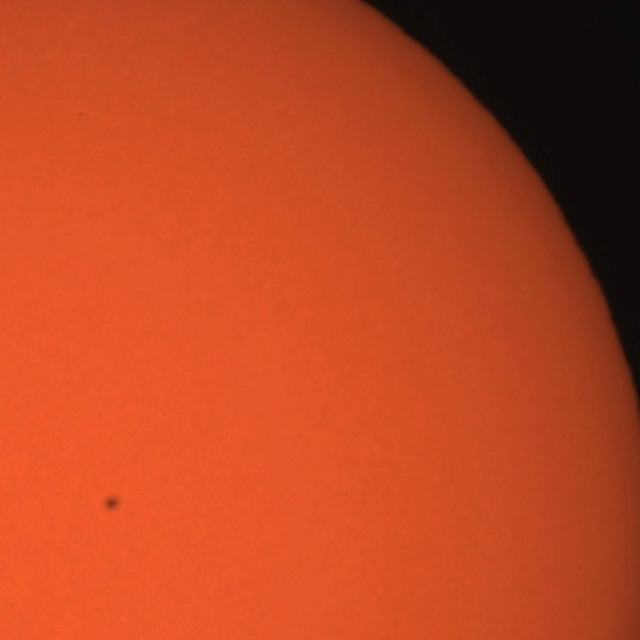sunspot: (101, 492, 123, 514)
